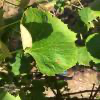grape leaf black rot: (17, 6, 79, 76)
